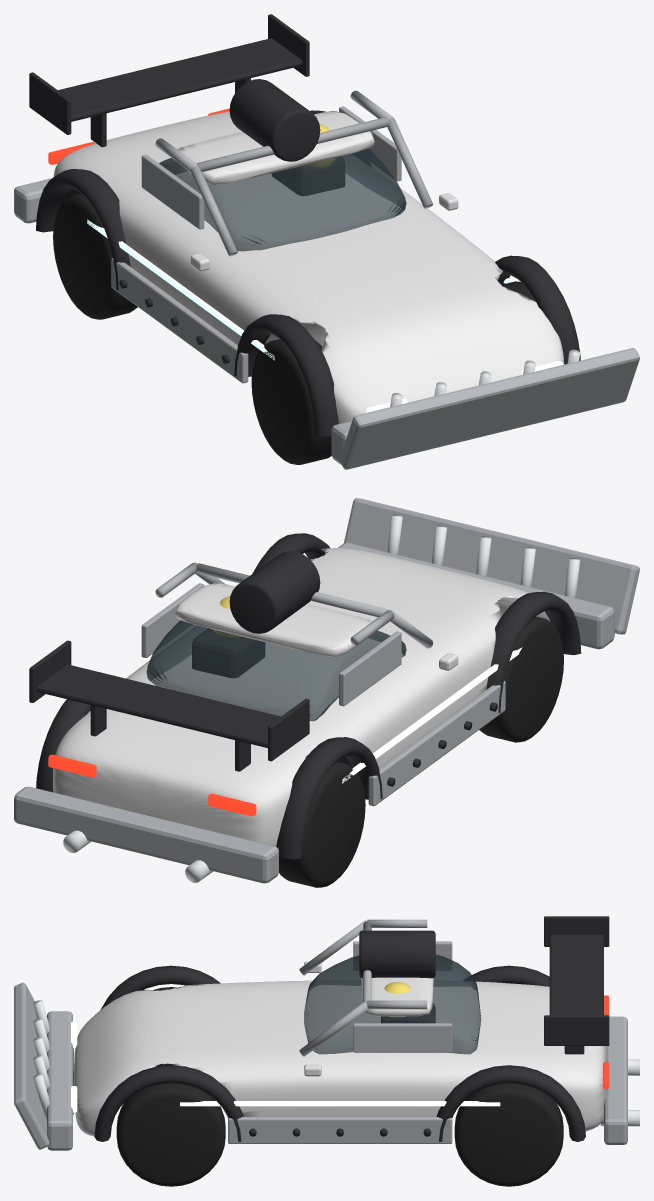
File: phoenix.glb
3 views of the same model, one above another, from view 1: azimuth 30°, elevation 25°; view 2: azimuth 150°, elevation 25°; view 3: azimuth 270°, elevation 25° (orthographic). The views are drawn at different scales.
Visible parts, largest first — view 1: Paint_Body, Steel_Parts, Dark_Parts, Glass, Wheel_FR, Wheel_RR, GlowStrips; view 2: Paint_Body, Steel_Parts, Dark_Parts, Glass, Wheel_RR, Wheel_FR, TailLights, GlowStrips; view 3: Paint_Body, Steel_Parts, Dark_Parts, Wheel_FL, Wheel_RL, Glass, GlowStrips.
Part boxes in pixels (box(x1,y1,x2,y2)): Paint_Body: box(53, 111, 564, 423); Steel_Parts: box(14, 90, 639, 469); Dark_Parts: box(29, 14, 580, 436); Glass: box(159, 148, 406, 251); Wheel_FR: box(251, 339, 331, 464); Wheel_RR: box(53, 193, 137, 319); GlowStrips: box(87, 219, 512, 360); Paint_Body: box(53, 548, 549, 846); Steel_Parts: box(14, 498, 639, 883); Dark_Parts: box(29, 533, 581, 882); Glass: box(146, 620, 406, 721); Wheel_RR: box(279, 761, 365, 887); Wheel_FR: box(479, 616, 563, 742); TailLights: box(48, 754, 256, 816); GlowStrips: box(342, 647, 522, 783); Paint_Body: box(73, 961, 606, 1136); Steel_Parts: box(14, 919, 627, 1150); Dark_Parts: box(73, 916, 639, 1141); Wheel_FL: box(116, 1083, 225, 1186); Wheel_RL: box(454, 1083, 563, 1186); Glass: box(304, 954, 481, 1054); GlowStrips: box(180, 1101, 500, 1106).
Bounding box in the file's own units: 2.55 × 2.06 × 5.74.
